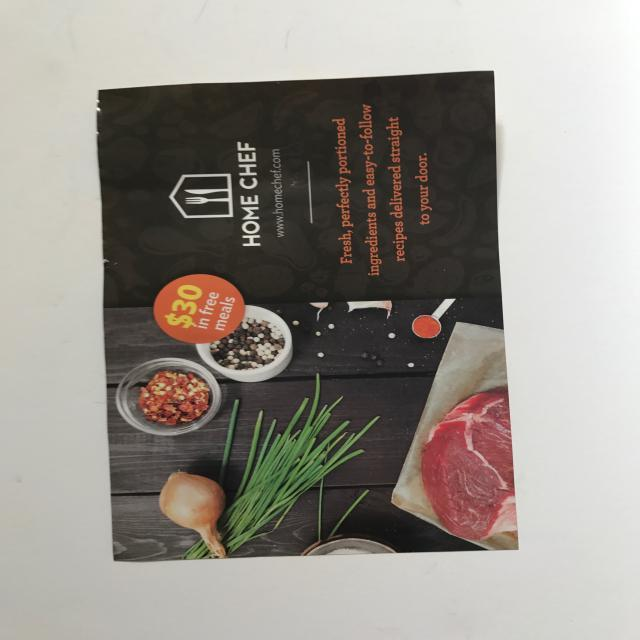paper: (90, 65, 524, 553)
